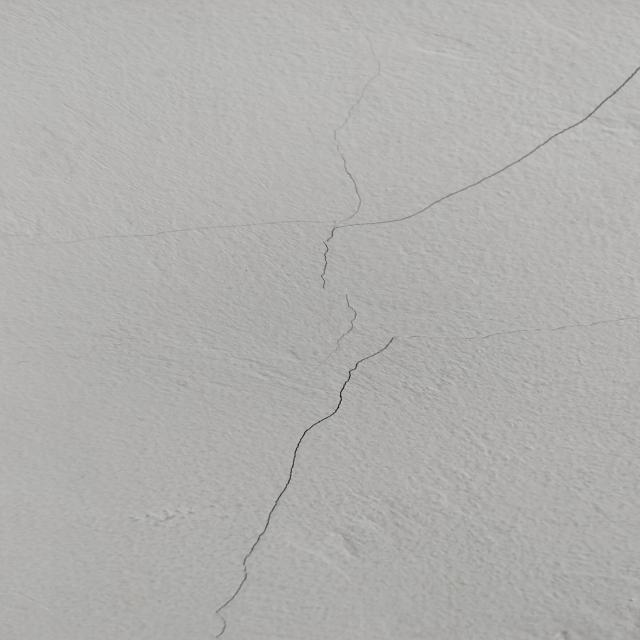Crack: (202, 314, 640, 640)
